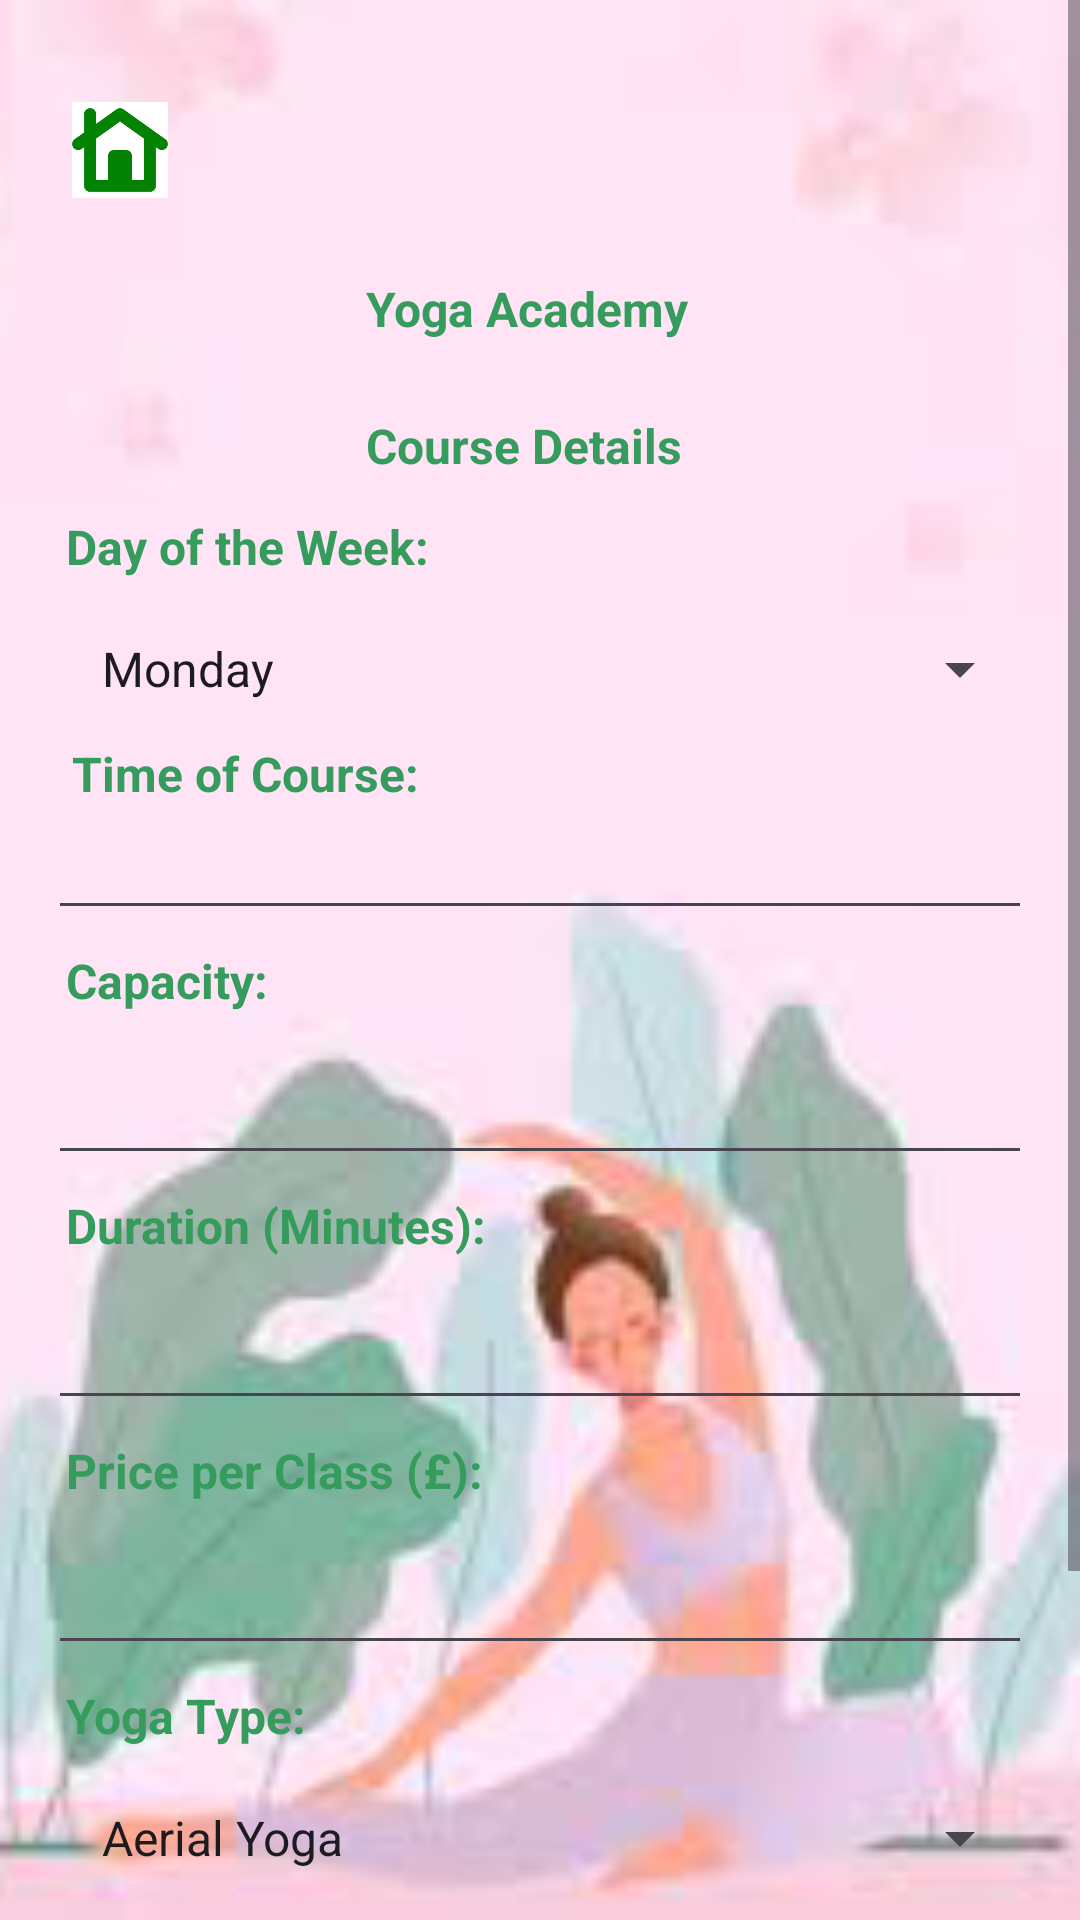

Icon bounding boxes for this 1080x1920 phone screenshot, format (x1, y1, x2, y2):
Home Button: (72, 102, 168, 198)
